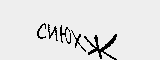Б: (34, 16, 53, 35)
В: (103, 10, 128, 33)
З: (127, 12, 147, 34)
У: (80, 11, 101, 33)
Ш: (52, 13, 79, 35)
Ү: (13, 16, 32, 36)
